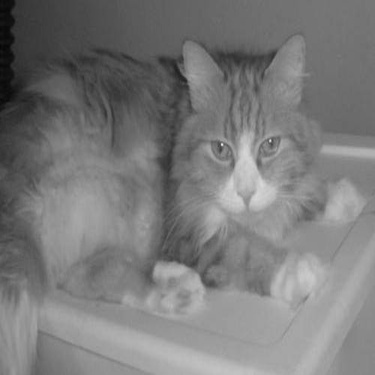cat: (1, 38, 348, 296)
